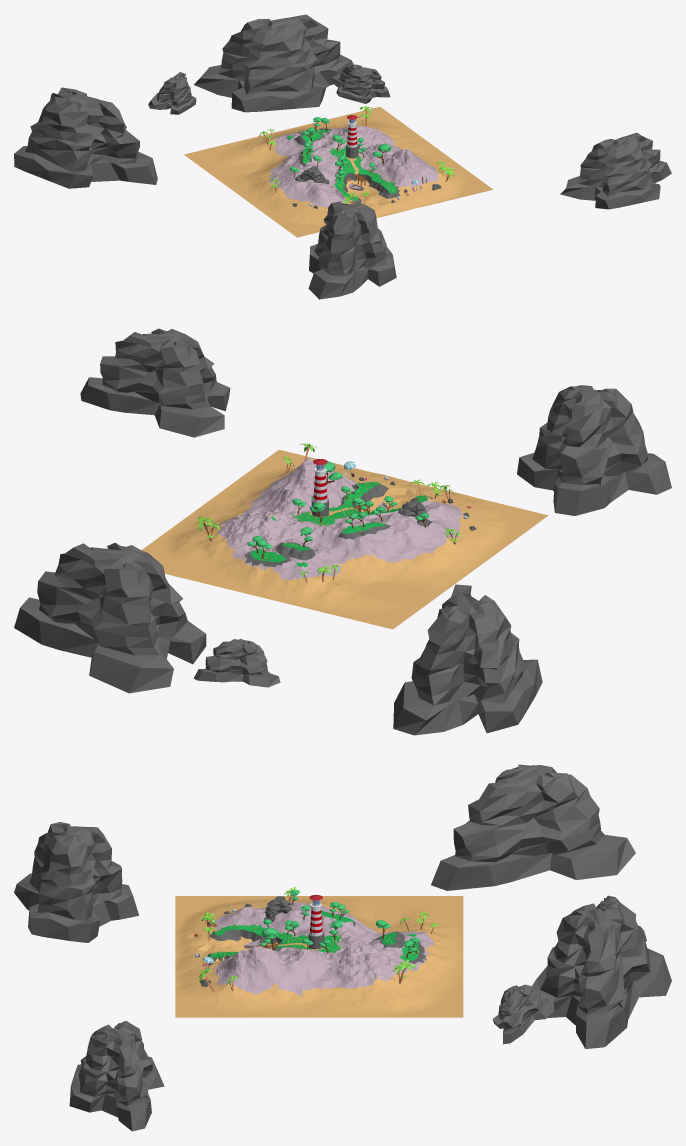
3 views of the same model, one above another, from view 1: azimuth 30°, elevation 25°; view 2: azimuth 150°, elevation 25°; view 3: azimuth 270°, elevation 25° (orthographic). The views are drawn at different scales.
Visible parts, largest first — view 1: 礁石 (×4), Landscape_1, Landscape_2, jiaoshi (×2), Landscape_3, Landscape_4; view 2: 礁石 (×4), Landscape_1, Landscape_2, jiaoshi, Landscape_3, Landscape_4; view 3: 礁石 (×4), Landscape_1, Landscape_2, jiaoshi, Landscape_3, Landscape_4.
Part boxes in pixels (x1,y1,x2,y2): 礁石 (×4): (14, 14, 671, 299); Landscape_1: (184, 107, 493, 237); Landscape_2: (268, 125, 439, 207); jiaoshi (×2): (148, 64, 390, 114); Landscape_3: (287, 128, 396, 200); Landscape_4: (294, 128, 400, 204); 礁石 (×4): (14, 328, 671, 735); Landscape_1: (142, 449, 548, 629); Landscape_2: (218, 457, 462, 580); jiaoshi: (193, 638, 280, 687); Landscape_3: (251, 482, 427, 567); Landscape_4: (244, 483, 432, 566); 礁石 (×4): (14, 764, 671, 1131); Landscape_1: (175, 896, 463, 1017); Landscape_2: (213, 901, 435, 996); jiaoshi: (493, 984, 554, 1044); Landscape_3: (209, 910, 418, 961); Landscape_4: (207, 911, 426, 963).
Bounding box in the file's own units: 12.42 × 1.75 × 11.42.
